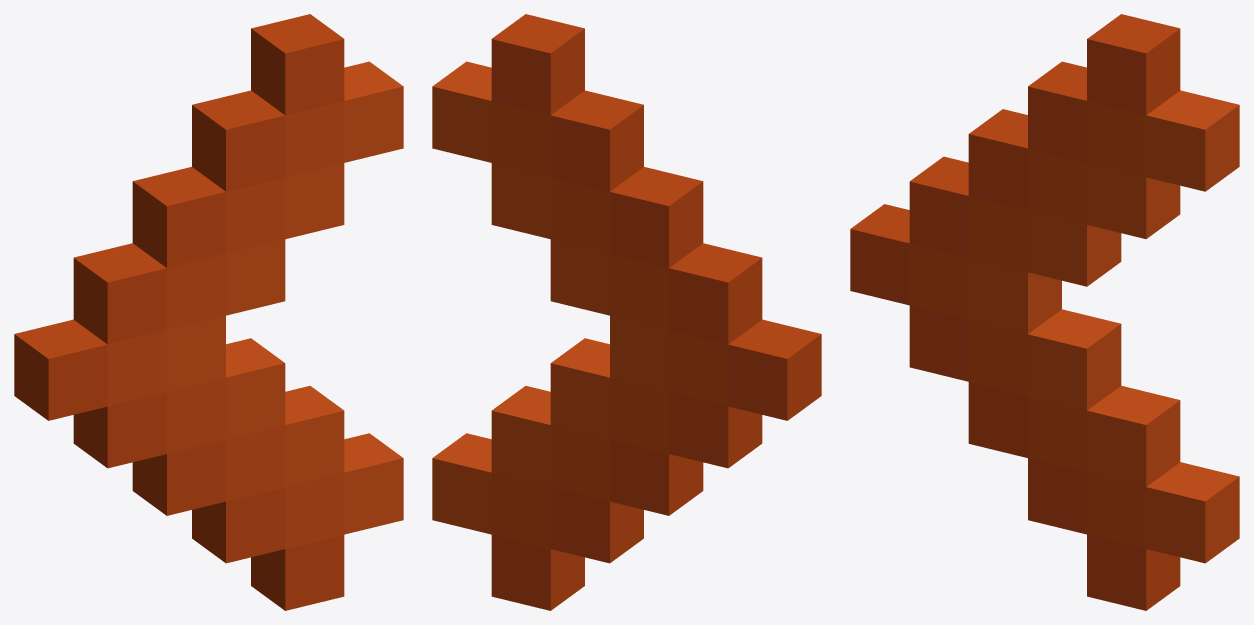
Rendered from bar-4.obj.
3 views of the same model, side by side, from view 1: azimuth 30°, elevation 25°; view 2: azimuth 150°, elevation 25°; view 3: azimuth 330°, elevation 25° (orthographic).
Bounding box in the file's own units: 0.6 × 0.9 × 0.1.
1 material, 1 textured.
